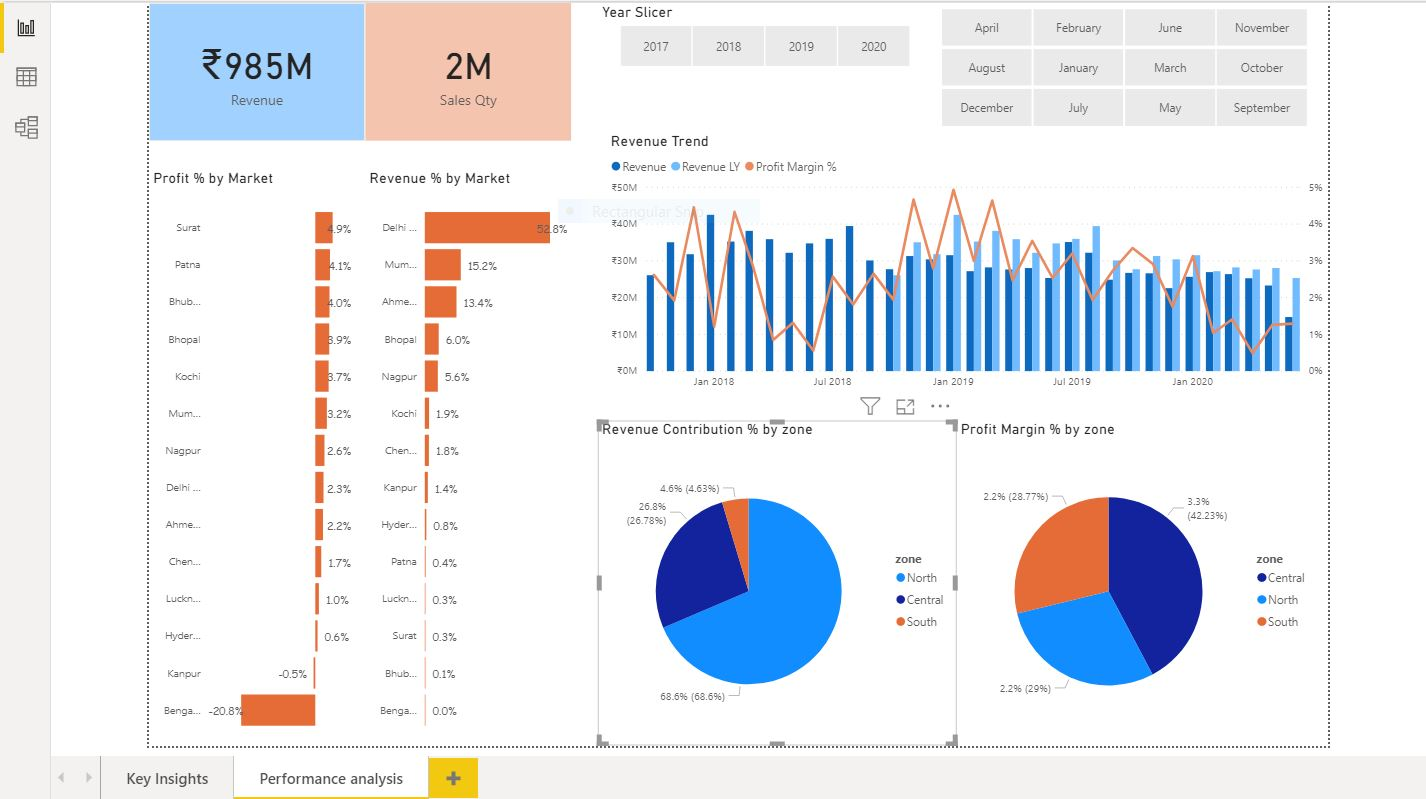

Layout of this report page (visuals, bound fields, positions):
{"tool":"powerbi","page":{"name":"Performance analysis","canvas":[1350,850],"ordinal":1},"visuals":[{"type":"card","fields":{"Values":["BaseMeasures (2).Revenue"]},"box":[0,0,247.6,157.4],"z":0},{"type":"card","fields":{"Values":["BaseMeasures (2).Sales Qty"]},"box":[247.6,0,236.1,157.4],"z":1000},{"type":"barChart","title":"Profit % by Market","fields":{"Category":["sales markets.markets_name"],"Y":["BaseMeasures (2).Profit Margin %"]},"box":[0,190.3,236.1,659.7],"z":2000},{"type":"slicer","title":"Year Slicer","fields":{"Values":["sales date.year"]},"box":[513.7,0,380.6,78.7],"z":3000},{"type":"slicer","title":"Month Slicer","fields":{"Values":["sales date.month_name"]},"box":[881.5,0,467.9,147.4],"z":4000},{"type":"lineClusteredColumnComboChart","title":"Revenue Trend","fields":{"Category":["sales date.cy_date"],"Y":["BaseMeasures (2).Revenue","BaseMeasures (2).Revenue LY"],"Y2":["BaseMeasures (2).Profit Margin %"]},"box":[523.7,147.4,825.7,304.8],"z":5000},{"type":"barChart","title":"Revenue % by Market","fields":{"Category":["sales markets.markets_name"],"Y":["BaseMeasures (2).Revenue Contribution %"]},"box":[247.6,190.3,236.1,659.7],"z":6000},{"type":"pieChart","fields":{"Category":["sales markets.zone"],"Y":["BaseMeasures (2).Revenue Contribution %"]},"box":[513.7,477.9,410.7,372.1],"z":7000},{"type":"pieChart","fields":{"Category":["sales markets.zone"],"Y":["BaseMeasures (2).Profit Margin %"]},"box":[924.4,477.9,413.6,372.1],"z":8000}]}

Visuals, with their boxes on the page's 1350x850 design canvas (x1, y1, x2, y2). These are canvas units, not pixel positions in the 1426x799 screenshot, which may show the page scaled, cropped or inside an application window:
card - BaseMeasures (2).Revenue: (x1=0, y1=0, x2=248, y2=157)
card - BaseMeasures (2).Sales Qty: (x1=248, y1=0, x2=484, y2=157)
"Profit % by Market" barChart: (x1=0, y1=190, x2=236, y2=850)
"Year Slicer" slicer: (x1=514, y1=0, x2=894, y2=79)
"Month Slicer" slicer: (x1=882, y1=0, x2=1349, y2=147)
"Revenue Trend" lineClusteredColumnComboChart: (x1=524, y1=147, x2=1349, y2=452)
"Revenue % by Market" barChart: (x1=248, y1=190, x2=484, y2=850)
pieChart - sales markets.zone x BaseMeasures (2).Revenue Contribution %: (x1=514, y1=478, x2=924, y2=850)
pieChart - sales markets.zone x BaseMeasures (2).Profit Margin %: (x1=924, y1=478, x2=1338, y2=850)
